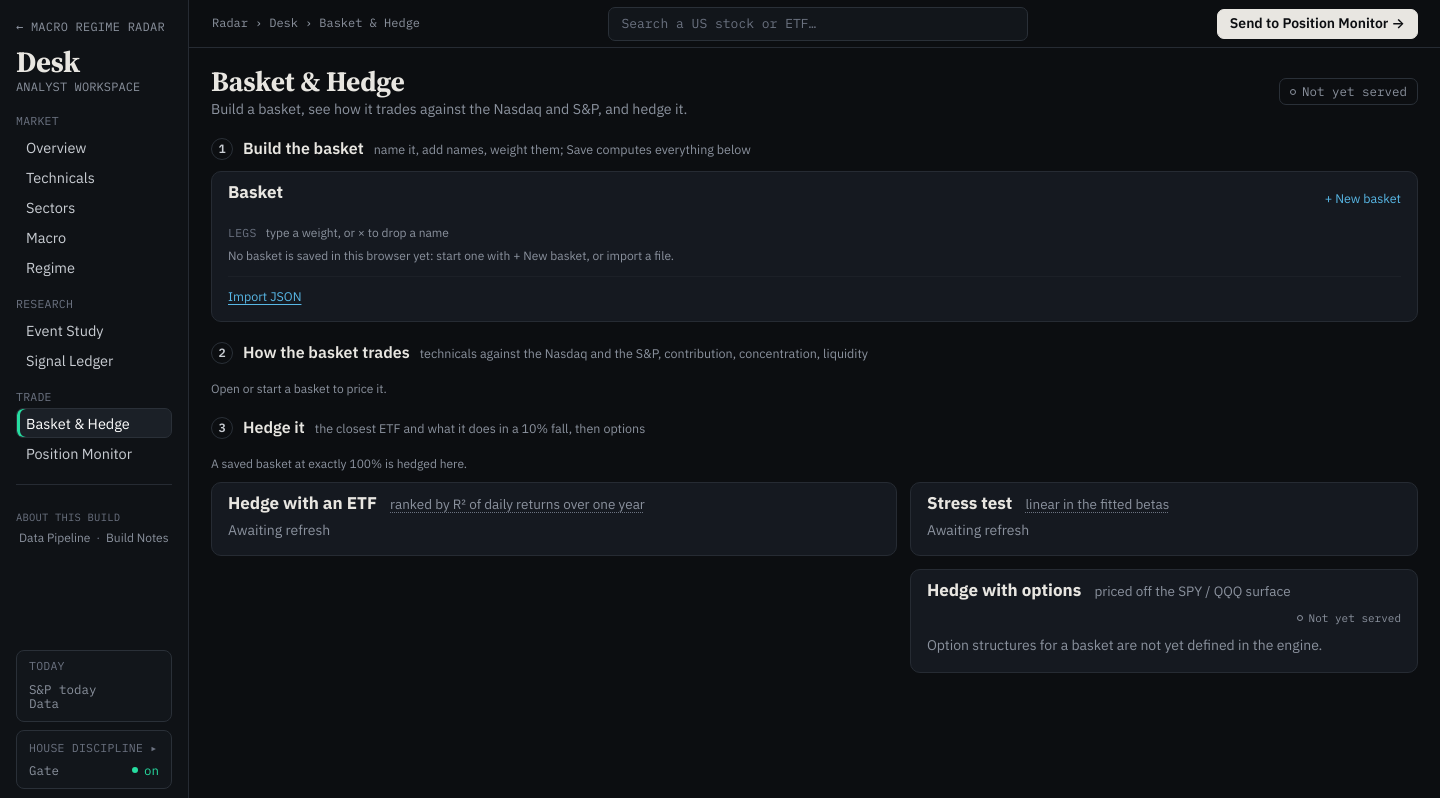
it: Basket & Hedge tab › with no basket saved, says so and starts one with + New basket, named
This screenshot has width=1440, height=798.
Expected: the element "Basket" shows "No basket is saved in this browser yet: start one with + New basket, or import a file.", [228, 248, 674, 263]
Expected: the element "Basket" does not show "bet working", [211, 172, 1418, 322]
Click the button "+ New basket" at coordinates (1363, 198), box [1325, 190, 1401, 207]
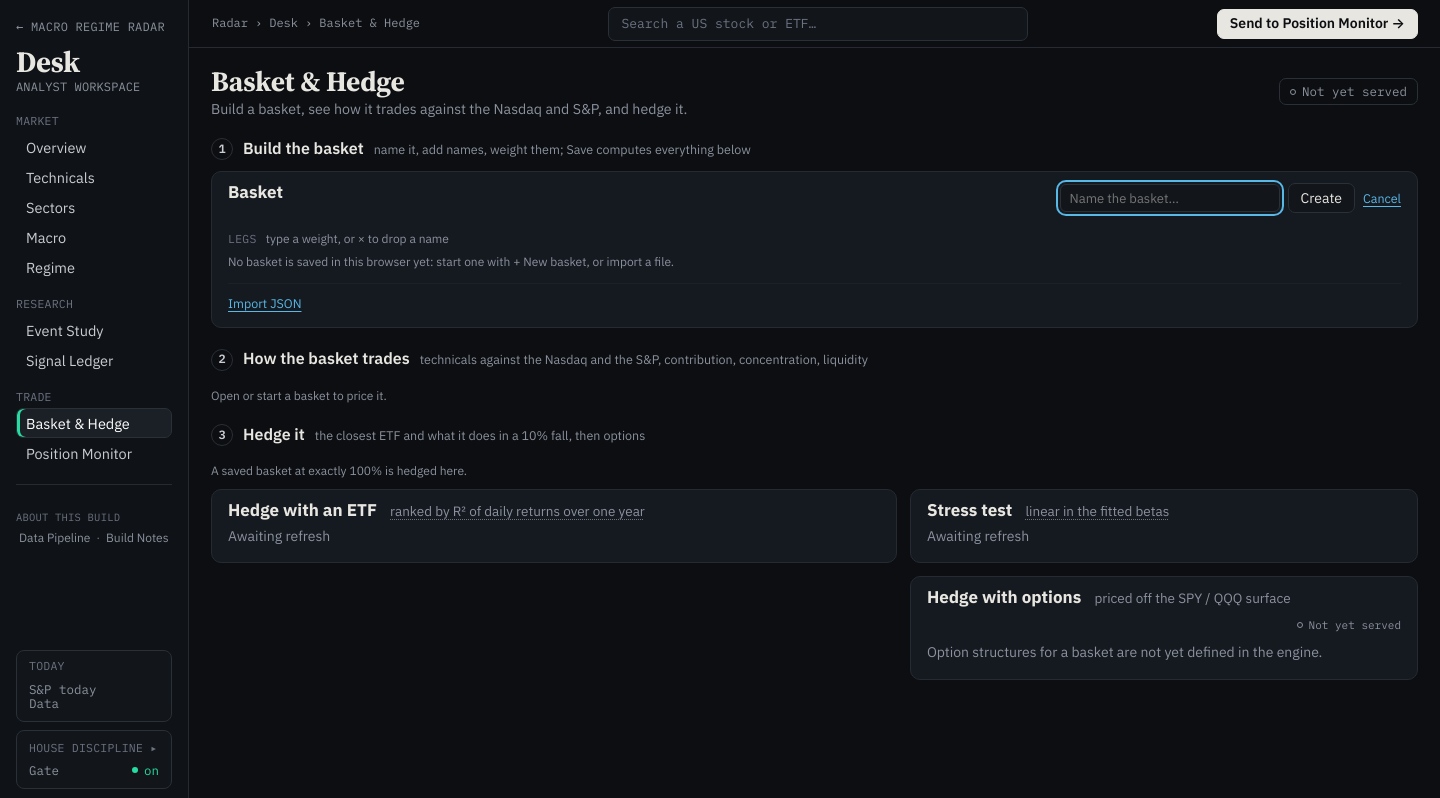
Click the button "Create" at coordinates (1321, 198), box [1288, 184, 1355, 214]
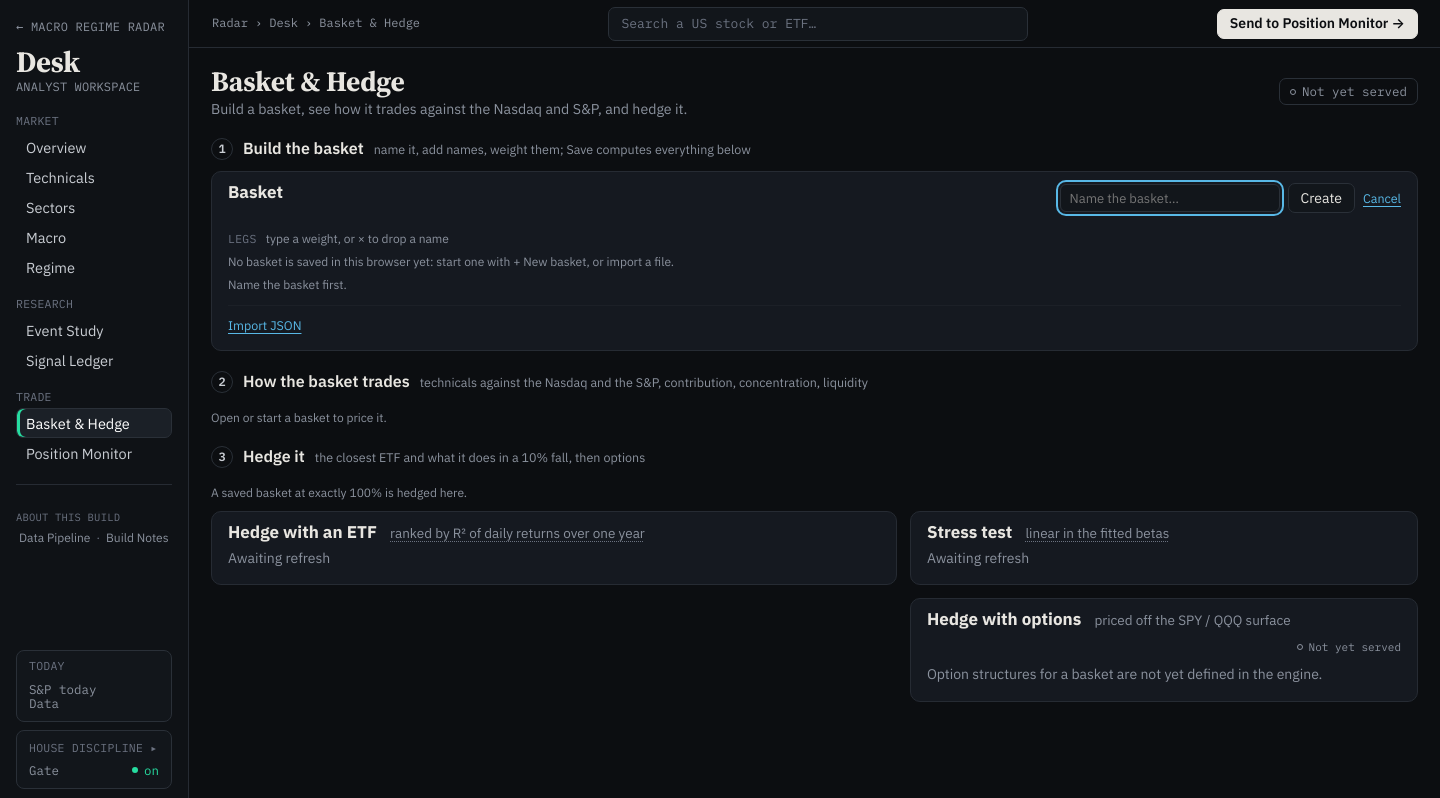
Now the element "Basket" shows "Name the basket first.", box [228, 276, 347, 292]
Type "  Grid names " into the field named "Name of the new basket" at coordinates (1170, 198), box [1060, 184, 1280, 212]
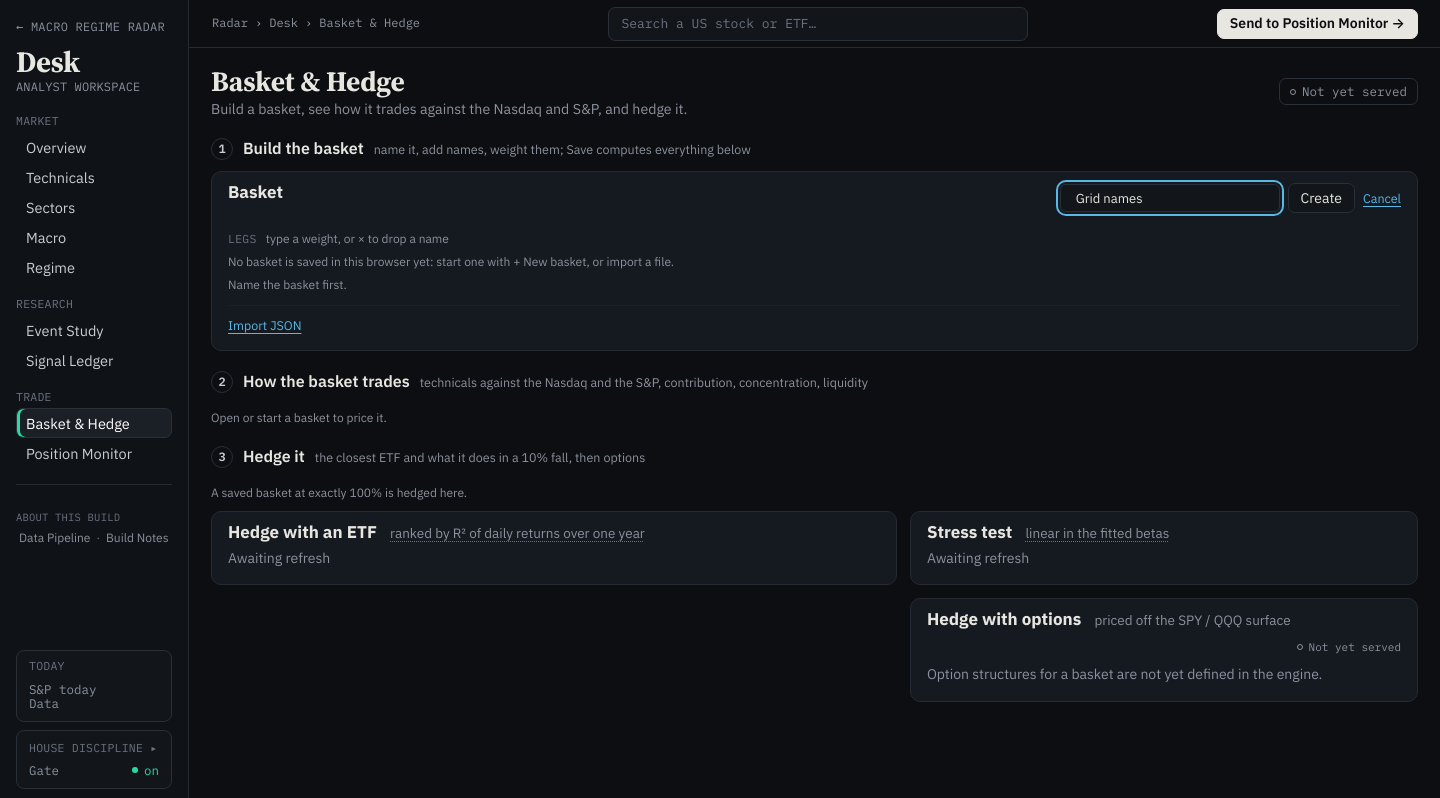
Click the button "Create" at coordinates (1321, 198), box [1288, 184, 1355, 214]
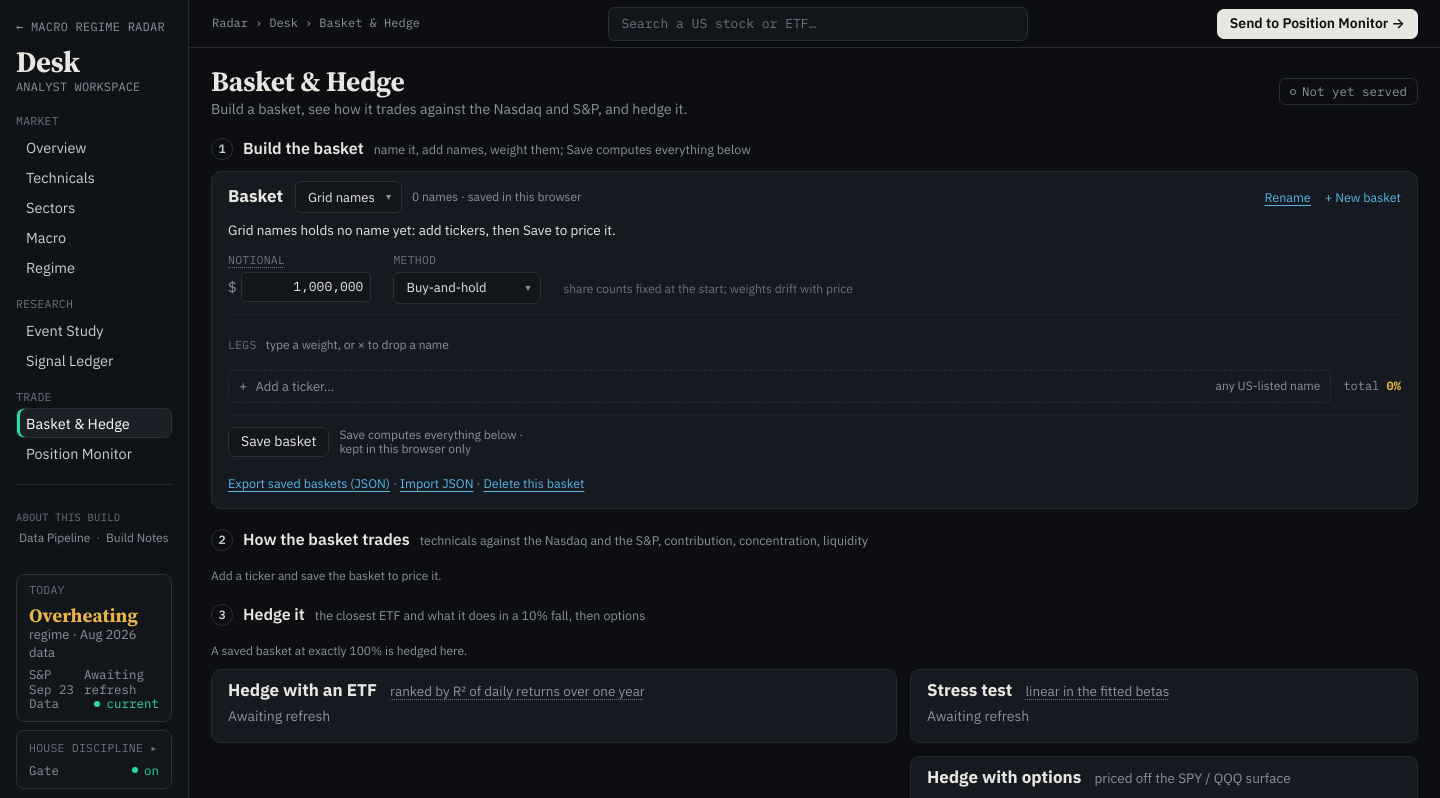
Now the element "Basket" shows "0 names · saved in this browser", box [412, 189, 581, 204]
